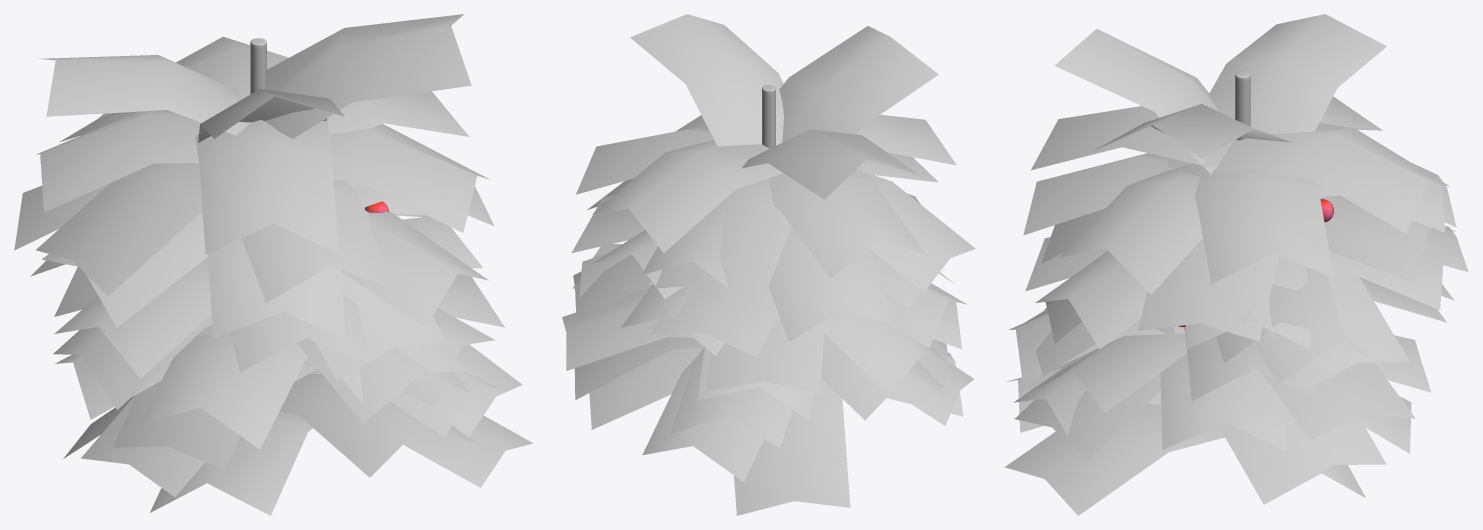
File: berry_bush01.fbx
The picture shows the model from 3 angles, left to right: view 1: azimuth 30°, elevation 25°; view 2: azimuth 150°, elevation 25°; view 3: azimuth 270°, elevation 25°; orthographic projection. The views are drawn at different scales.
Visible parts, largest first — view 1: pPlane17 (×11), pPlane19 (×10), pPlane18 (×8), pPlane22, pPlane23, pPlane20, pPlane21, pPlane24, pCylinder1; view 2: pPlane18 (×10), pPlane17 (×7), pPlane19 (×11), pPlane23, pPlane21, pPlane24, pPlane20, pPlane22, pCylinder1; view 3: pPlane17 (×13), pPlane19 (×11), pPlane18 (×9), pPlane20, pPlane21, pPlane22, pPlane23, pCylinder1.
Boxes of the visible parts, left/top/right/bottom form: pPlane17 (×11): left=36, top=36, right=504, bottom=477; pPlane19 (×10): left=42, top=91, right=509, bottom=515; pPlane18 (×8): left=36, top=163, right=533, bottom=496; pPlane22: left=195, top=119, right=338, bottom=254; pPlane23: left=265, top=14, right=471, bottom=138; pPlane20: left=39, top=55, right=250, bottom=135; pPlane21: left=198, top=89, right=344, bottom=142; pPlane24: left=14, top=183, right=110, bottom=250; pCylinder1: left=250, top=38, right=266, bottom=94; pPlane18 (×10): left=562, top=169, right=975, bottom=515; pPlane17 (×7): left=592, top=140, right=946, bottom=482; pPlane19 (×11): left=571, top=126, right=966, bottom=447; pPlane23: left=630, top=14, right=783, bottom=146; pPlane21: left=779, top=26, right=938, bottom=141; pPlane24: left=768, top=227, right=895, bottom=341; pPlane20: left=742, top=129, right=918, bottom=199; pPlane22: left=780, top=114, right=956, bottom=165; pCylinder1: left=762, top=85, right=775, bottom=148; pPlane17 (×13): left=1006, top=96, right=1455, bottom=453; pPlane19 (×11): left=1013, top=153, right=1446, bottom=504; pPlane18 (×9): left=1005, top=226, right=1468, bottom=515; pPlane20: left=1209, top=14, right=1386, bottom=134; pPlane21: left=1054, top=29, right=1219, bottom=174; pPlane22: left=1031, top=106, right=1233, bottom=170; pPlane23: left=1094, top=104, right=1291, bottom=159; pCylinder1: left=1235, top=71, right=1250, bottom=140.
Bounding box in the file's own units: 5.51 × 5.69 × 5.79.
